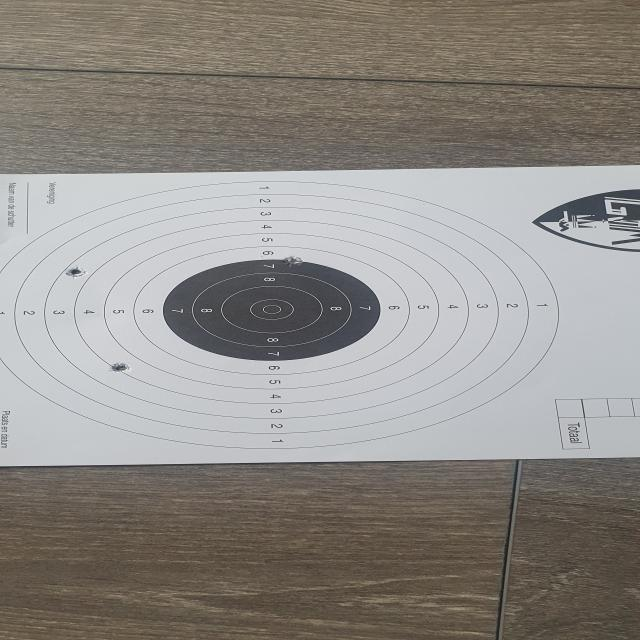4: (62, 266, 90, 280)
5: (106, 360, 134, 374)
8: (280, 255, 305, 268)
Black Contour: (164, 259, 382, 361)
Target: (0, 180, 561, 450)
